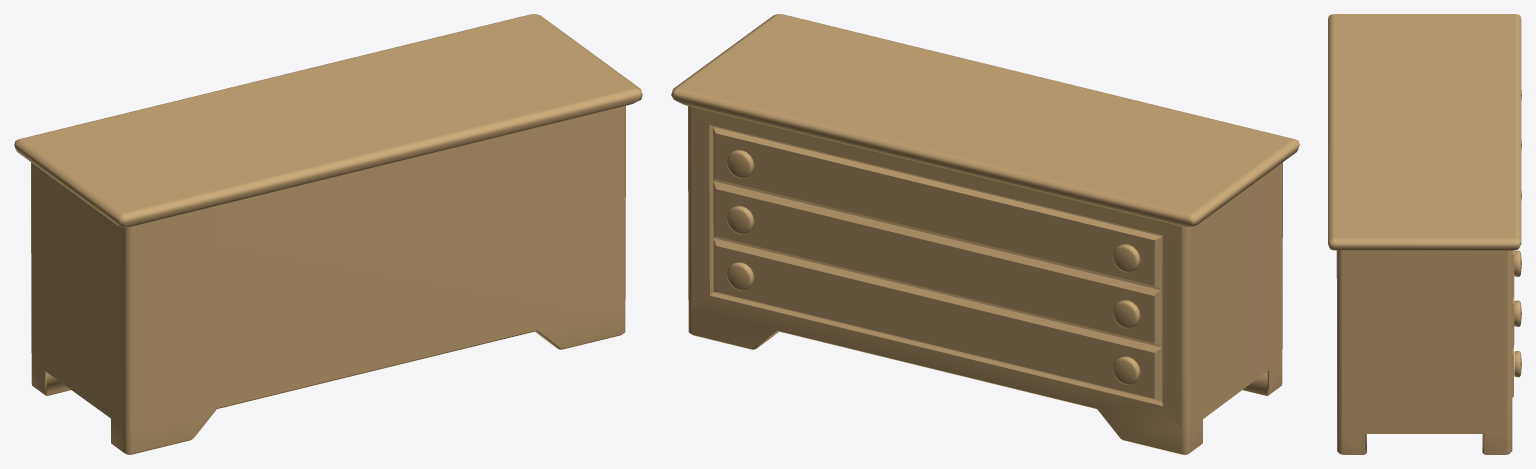
The model's file is sm_Dresser.fbx.
3 views of the same model, side by side, from view 1: azimuth 30°, elevation 25°; view 2: azimuth 150°, elevation 25°; view 3: azimuth 270°, elevation 25° (orthographic). The views are drawn at different scales.
Visible parts, largest first — view 1: sm_Dresser; view 2: sm_Dresser; view 3: sm_Dresser.
Part boxes in pixels (box(x1,y1,x2,y2)): sm_Dresser: box(14, 14, 642, 454); sm_Dresser: box(671, 14, 1299, 454); sm_Dresser: box(1328, 14, 1521, 454).
Size of the model in its own units: 2.01 by 0.9012 by 0.7177.
